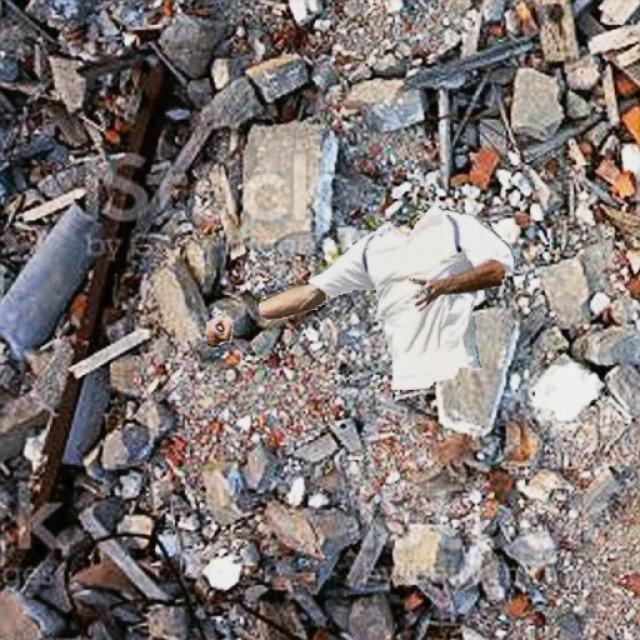Person in Rubble: (206, 206, 514, 389)
